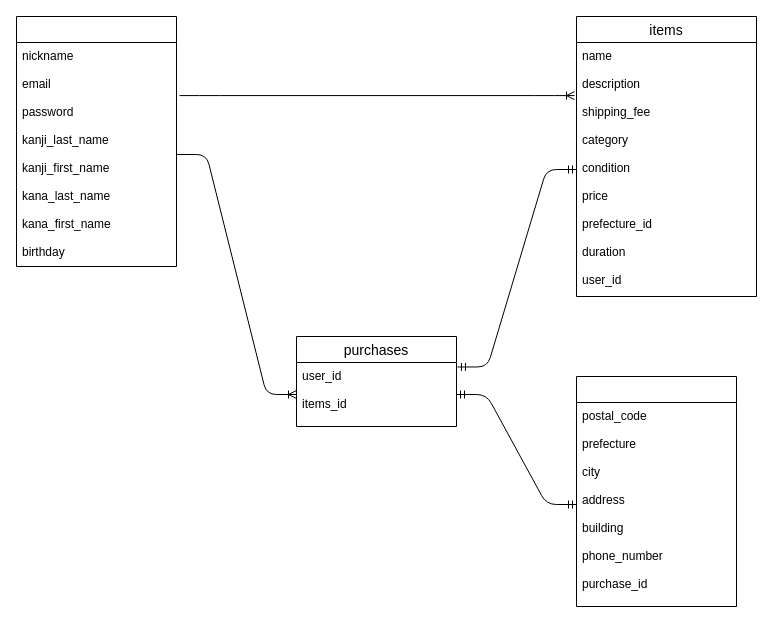
Image size: 773x623. Some labels were removed from this diagram. The shapes that lost their labels are listed below. From the top down, each one's box as (x1, y1, x2, y2) in pixels, then its label:
(16, 16, 176, 266): users
(576, 376, 736, 606): shipping_addresses
